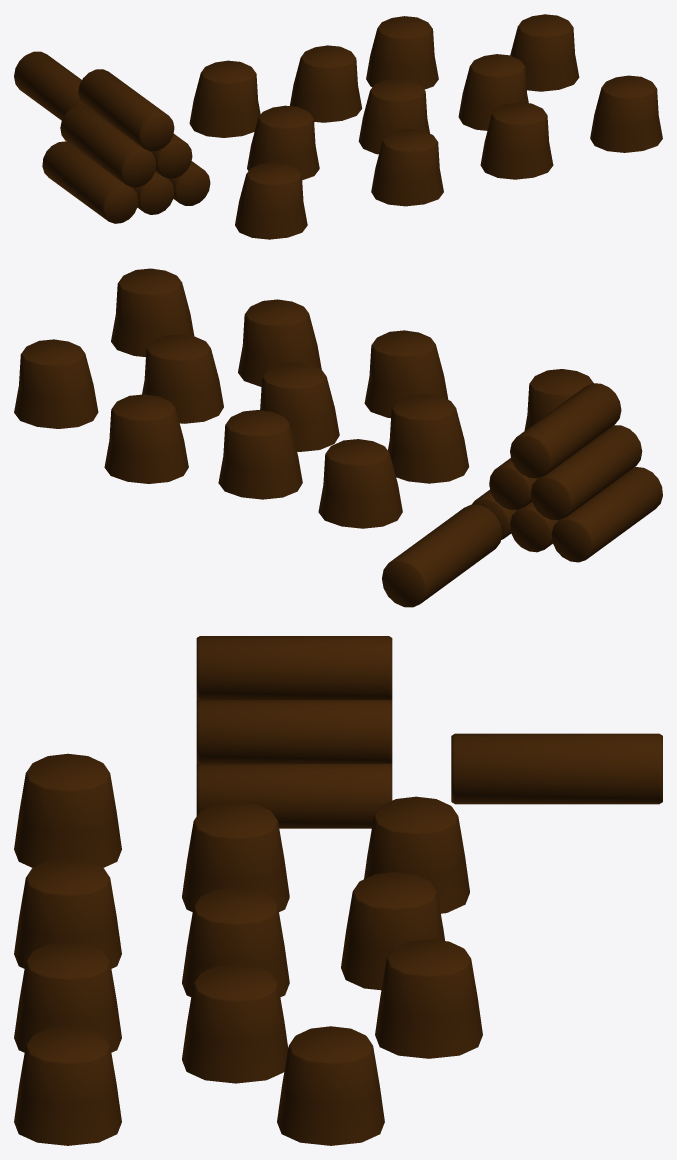
The model's file is deforest_1.glb.
3 views of the same model, one above another, from view 1: azimuth 30°, elevation 25°; view 2: azimuth 150°, elevation 25°; view 3: azimuth 270°, elevation 25° (orthographic). The views are drawn at different scales.
Parts seen in each view (by area): view 1: Log; view 2: Log; view 3: Log.
Boxes of the visible parts, x1,y1,x2,y2 form: Log: (14, 14, 662, 239); Log: (14, 268, 662, 607); Log: (14, 636, 662, 1145).
Bounding box in the file's own units: 4.47 × 0.8422 × 3.11.
